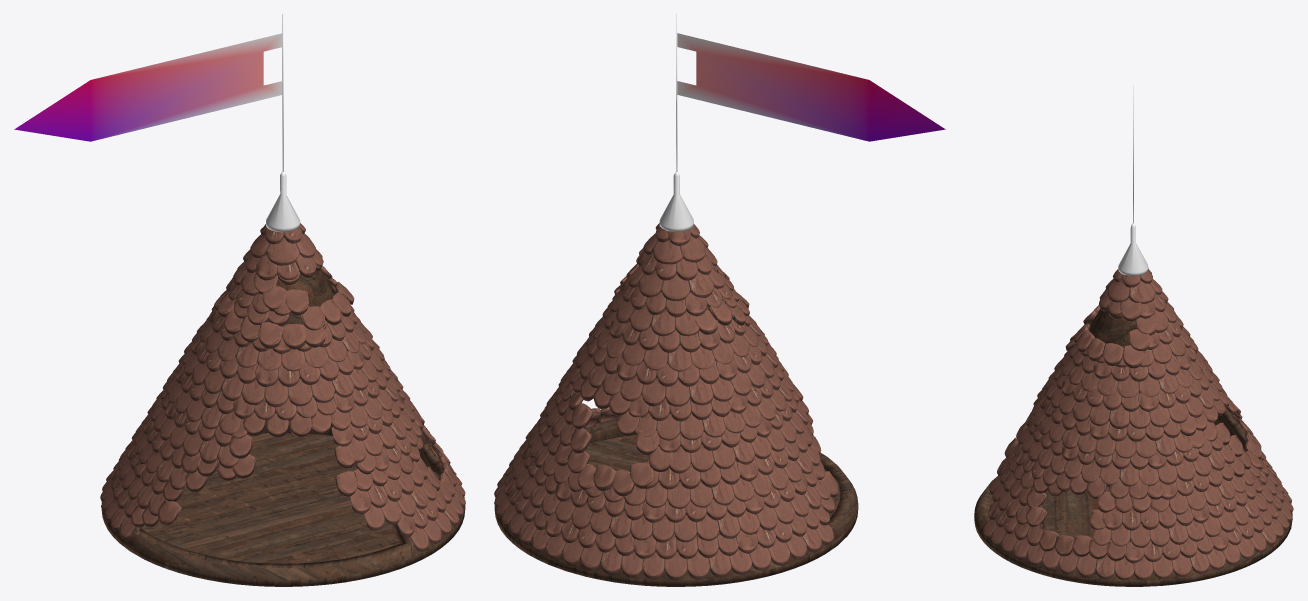
Rendered from conus_roof_LOD3.fbx.
The picture shows the model from 3 angles, left to right: view 1: azimuth 30°, elevation 25°; view 2: azimuth 150°, elevation 25°; view 3: azimuth 270°, elevation 25°; orthographic projection. The views are drawn at different scales.
Visible parts, largest first — view 1: Fabric_flag.008; view 2: Fabric_flag.008; view 3: Fabric_flag.008.
Boxes of the visible parts, left/top/right/bottom form: Fabric_flag.008: left=14, top=14, right=465, bottom=586; Fabric_flag.008: left=494, top=14, right=945, bottom=586; Fabric_flag.008: left=974, top=85, right=1293, bottom=586.
Size of what is drawn, in the model's own units: 288 by 319 by 213.
